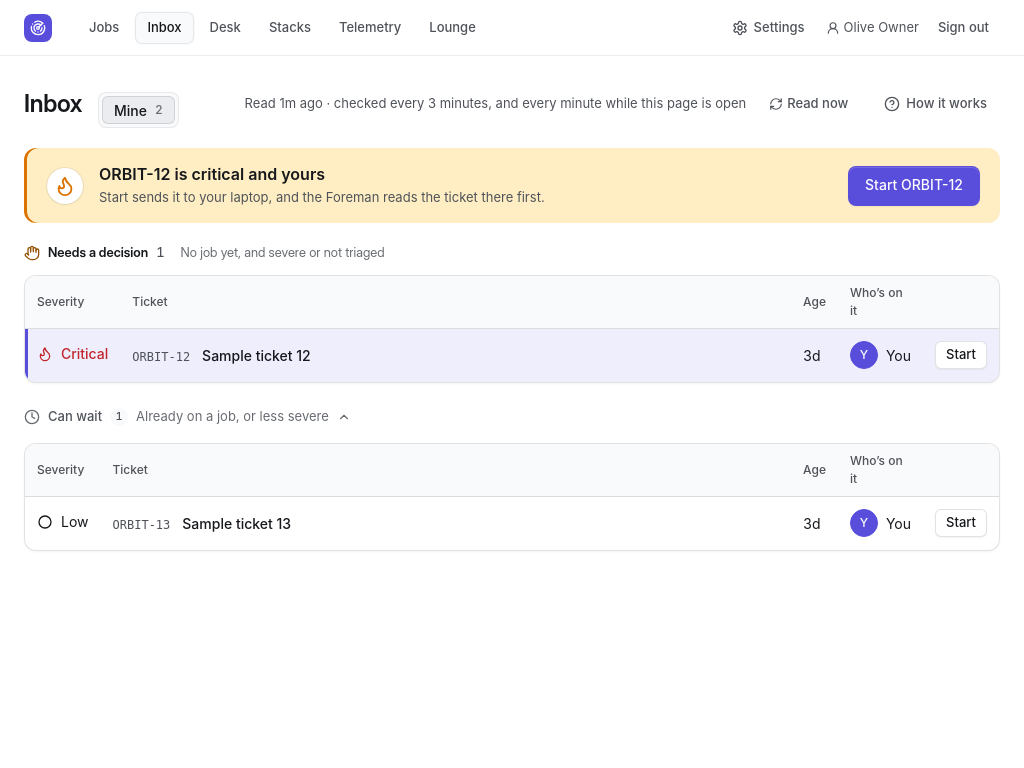
the hosted Inbox › Start with one laptop sends it at once; the row says it is on its way, and Cancel takes it back
The width and height of the screenshot is (1024, 768).
Step 1. Click the button with aria-label "Start a job on ORBIT-12" → click(961, 355), box [935,341,987,369]
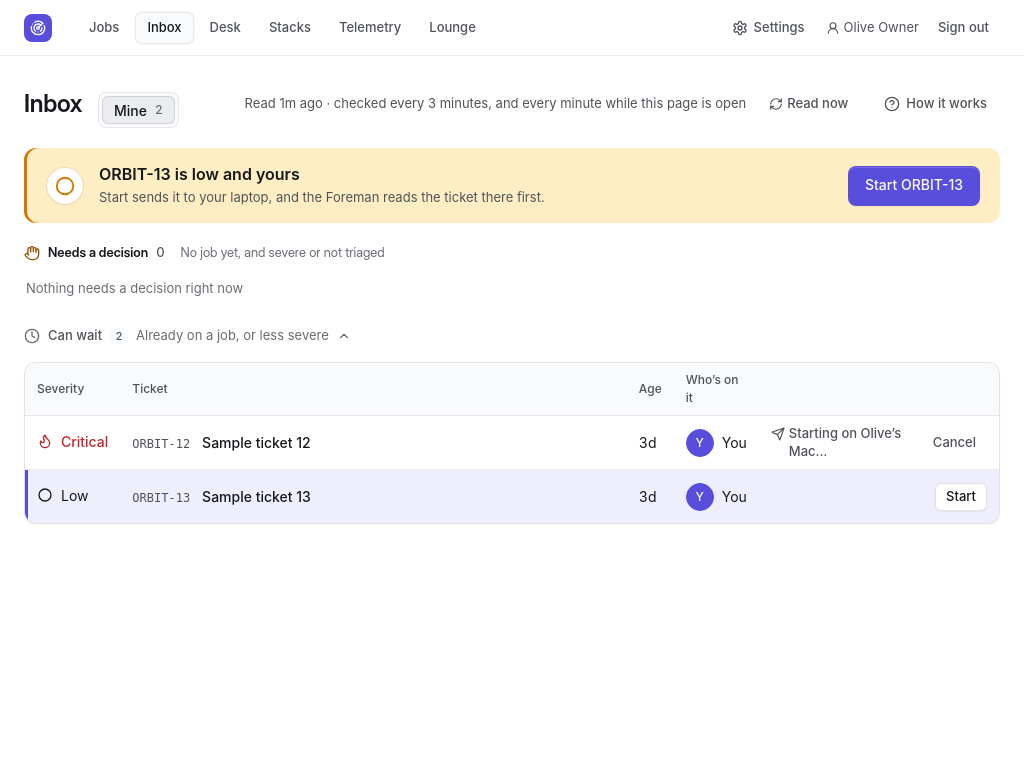
Result: the text "Starting on Olive’s Mac…" is shown at [771,425,914,460]
Step 2. Click the button "Cancel" → click(954, 443), box [922,429,987,457]
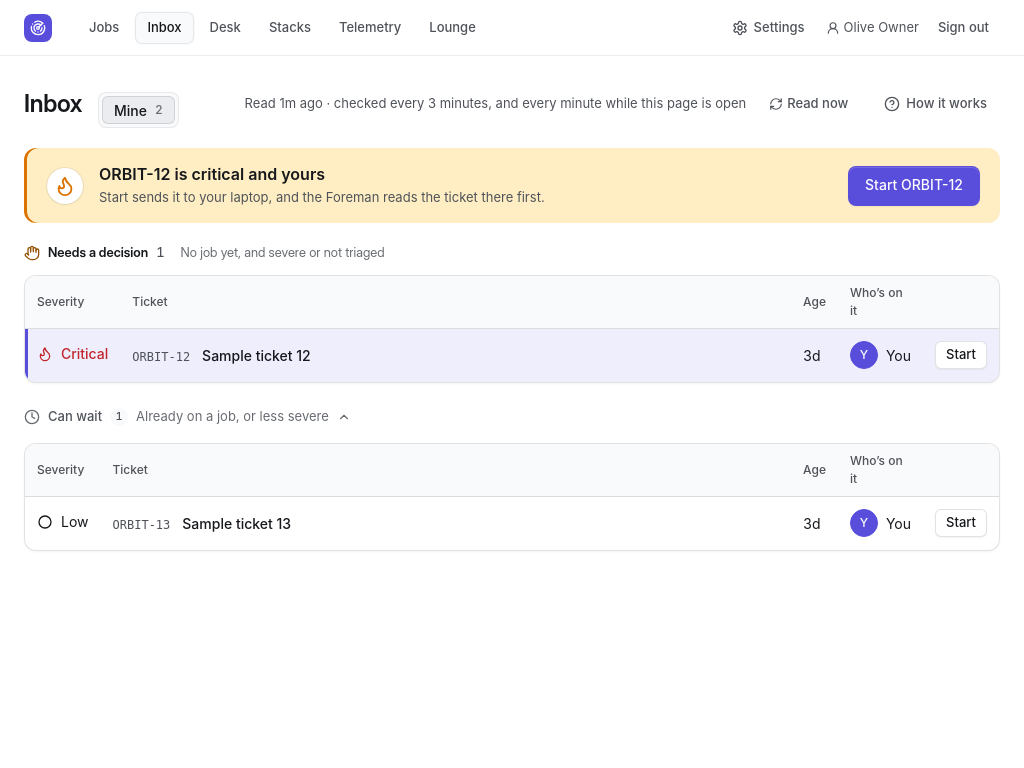
Result: the button with aria-label "Start a job on ORBIT-12" is shown at [935,341,987,369]
